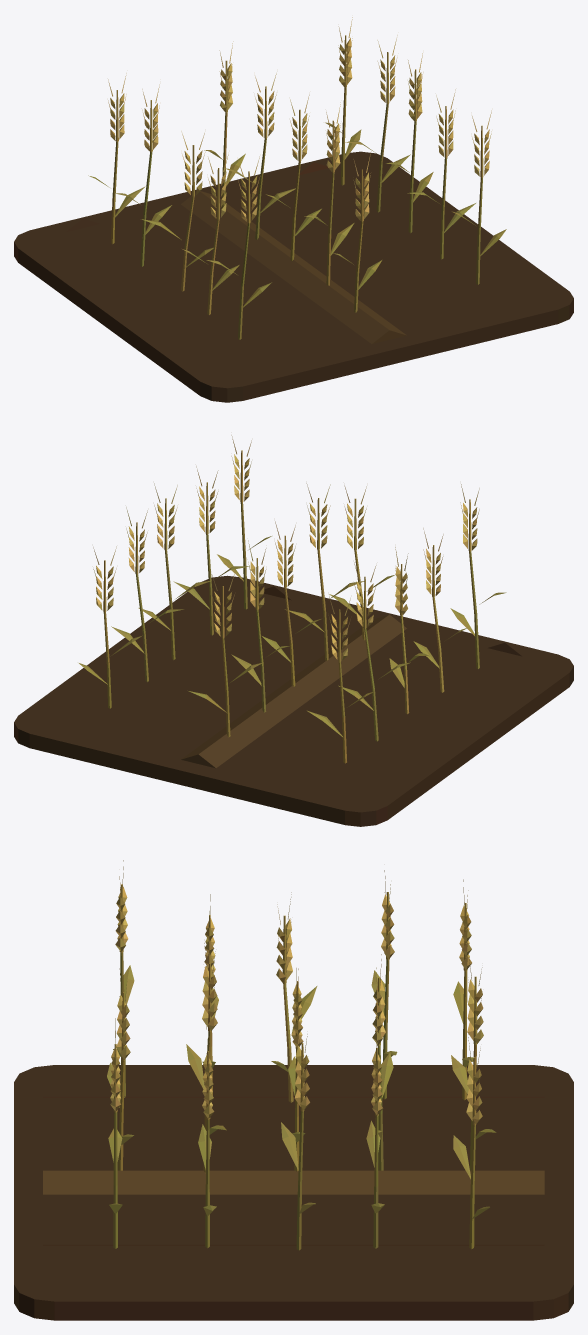
The model's file is ble_petit.glb.
The picture shows the model from 3 angles, top to bottom: view 1: azimuth 30°, elevation 25°; view 2: azimuth 150°, elevation 25°; view 3: azimuth 270°, elevation 25°; orthographic projection. The views are drawn at different scales.
Parts seen in each view (by area): view 1: Terre_et_sillons, Epis_et_barbes, Tiges_et_feuilles; view 2: Terre_et_sillons, Epis_et_barbes, Tiges_et_feuilles; view 3: Terre_et_sillons, Tiges_et_feuilles, Epis_et_barbes.
Boxes of the visible parts, <box> form: Terre_et_sillons: <box>14,151,573,402</box>; Epis_et_barbes: <box>108,17,491,223</box>; Tiges_et_feuilles: <box>88,87,506,339</box>; Terre_et_sillons: <box>14,575,573,826</box>; Epis_et_barbes: <box>93,435,479,661</box>; Tiges_et_feuilles: <box>79,502,506,763</box>; Terre_et_sillons: <box>14,1065,573,1320</box>; Tiges_et_feuilles: <box>107,952,496,1250</box>; Epis_et_barbes: <box>110,860,483,1125</box>.
Size of the model in its own units: 0.48 by 0.2545 by 0.48.
